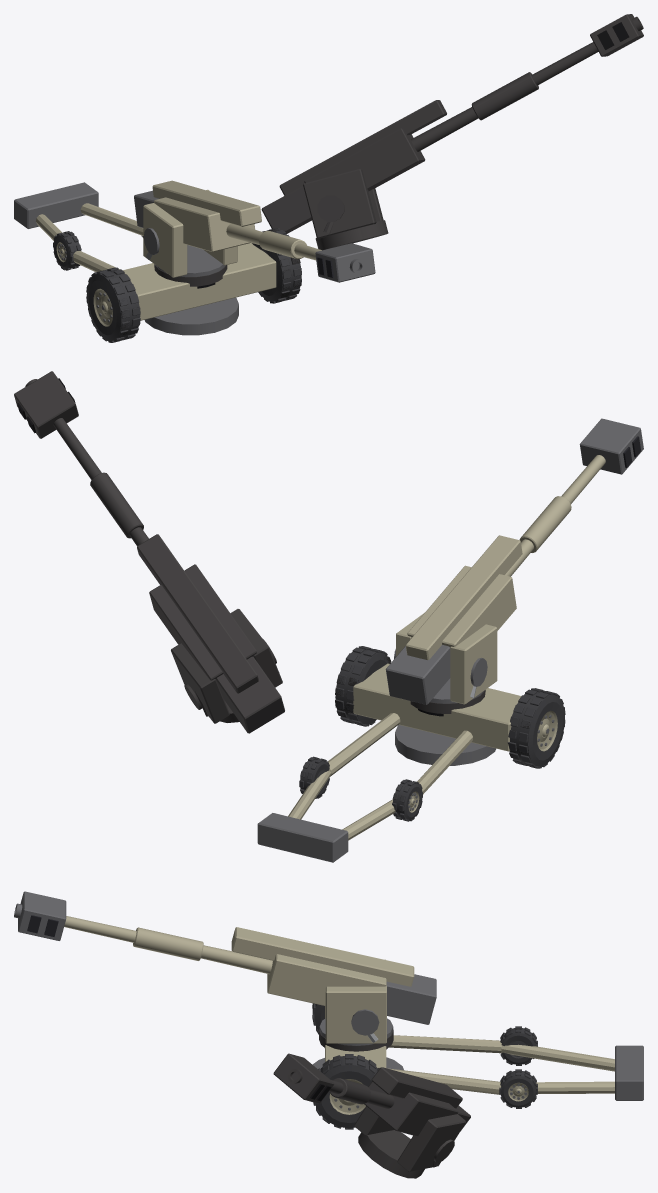
The model's file is towedHowitzer__l118_light_gun.glb.
The picture shows the model from 3 angles, top to bottom: view 1: azimuth 30°, elevation 25°; view 2: azimuth 150°, elevation 25°; view 3: azimuth 270°, elevation 25°; orthographic projection. The views are drawn at different scales.
Visible parts, largest first — view 1: Wreck, Hull_Mesh, Gun_Mesh, Turret_Mesh, Wheel_L0_Mesh, Wheel_R0_Mesh, Wheel_L1_Mesh; view 2: Wreck, Gun_Mesh, Hull_Mesh, Wheel_L0_Mesh, Turret_Mesh, Wheel_R0_Mesh, Wheel_L1_Mesh, Wheel_R1_Mesh; view 3: Gun_Mesh, Wreck, Hull_Mesh, Turret_Mesh, Wheel_R0_Mesh, Wheel_R1_Mesh, Wheel_L1_Mesh.
Part boxes in pixels (<box>): Wreck: <box>57,14,643,339</box>; Hull_Mesh: <box>14,182,276,335</box>; Gun_Mesh: <box>134,180,375,282</box>; Turret_Mesh: <box>143,189,237,277</box>; Wheel_L0_Mesh: <box>86,267,140,342</box>; Wheel_R0_Mesh: <box>252,228,301,303</box>; Wheel_L1_Mesh: <box>53,231,81,270</box>; Wreck: <box>14,371,564,819</box>; Gun_Mesh: <box>385,418,643,704</box>; Hull_Mesh: <box>257,663,521,862</box>; Wheel_L0_Mesh: <box>507,688,565,768</box>; Turret_Mesh: <box>394,613,497,704</box>; Wheel_R0_Mesh: <box>335,646,390,726</box>; Wheel_L1_Mesh: <box>392,779,422,821</box>; Wheel_R1_Mesh: <box>299,756,329,798</box>; Gun_Mesh: <box>14,891,436,1024</box>; Wreck: <box>273,1023,470,1178</box>; Hull_Mesh: <box>312,1006,643,1100</box>; Turret_Mesh: <box>319,959,393,1045</box>; Wheel_R0_Mesh: <box>313,1054,378,1129</box>; Wheel_R1_Mesh: <box>499,1069,537,1108</box>; Wheel_L1_Mesh: <box>500,1026,537,1065</box>.
Size of what is drawn, in the model's own units: 6.94 by 2.91 by 7.19.
